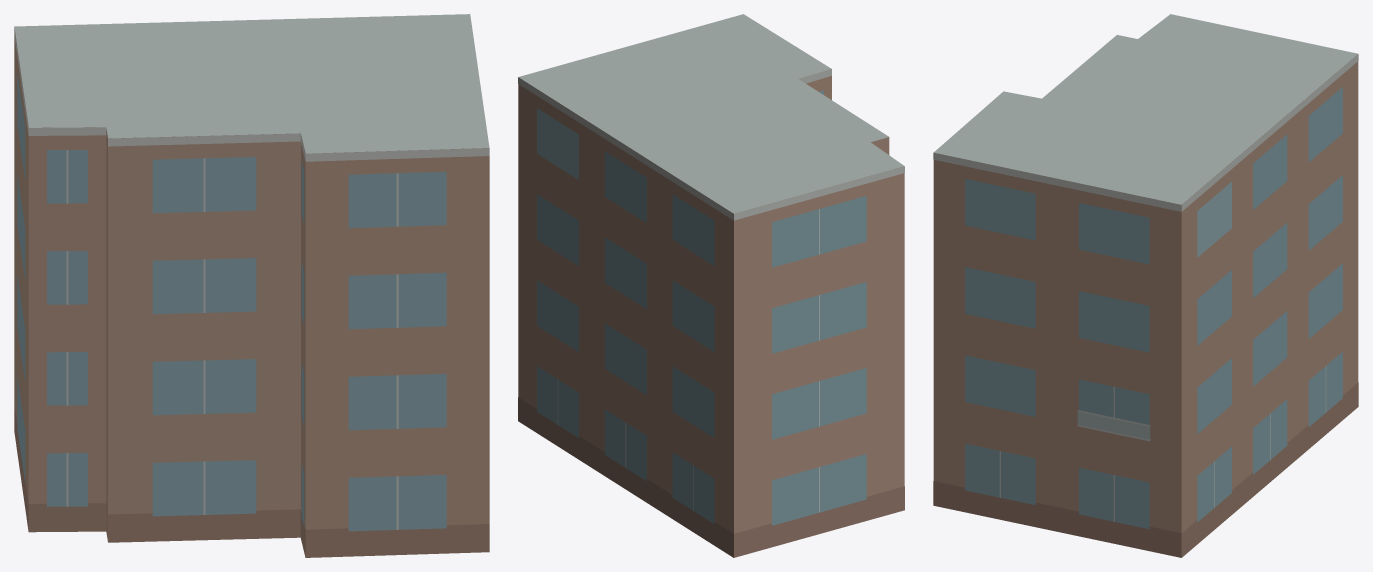
File: survey-upis-32854327.glb
3 views of the same model, side by side, from view 1: azimuth 30°, elevation 25°; view 2: azimuth 150°, elevation 25°; view 3: azimuth 270°, elevation 25° (orthographic). The views are drawn at different scales.
Visible parts, largest first — view 1: survey-upis-32854327.tmp; view 2: survey-upis-32854327.tmp; view 3: survey-upis-32854327.tmp.
Boxes of the visible parts, x1,y1,x2,y2 form: survey-upis-32854327.tmp: [14, 14, 489, 557]; survey-upis-32854327.tmp: [518, 14, 904, 557]; survey-upis-32854327.tmp: [933, 14, 1358, 557].
Size of the model in its own units: 14.15 by 12.2 by 13.32.
